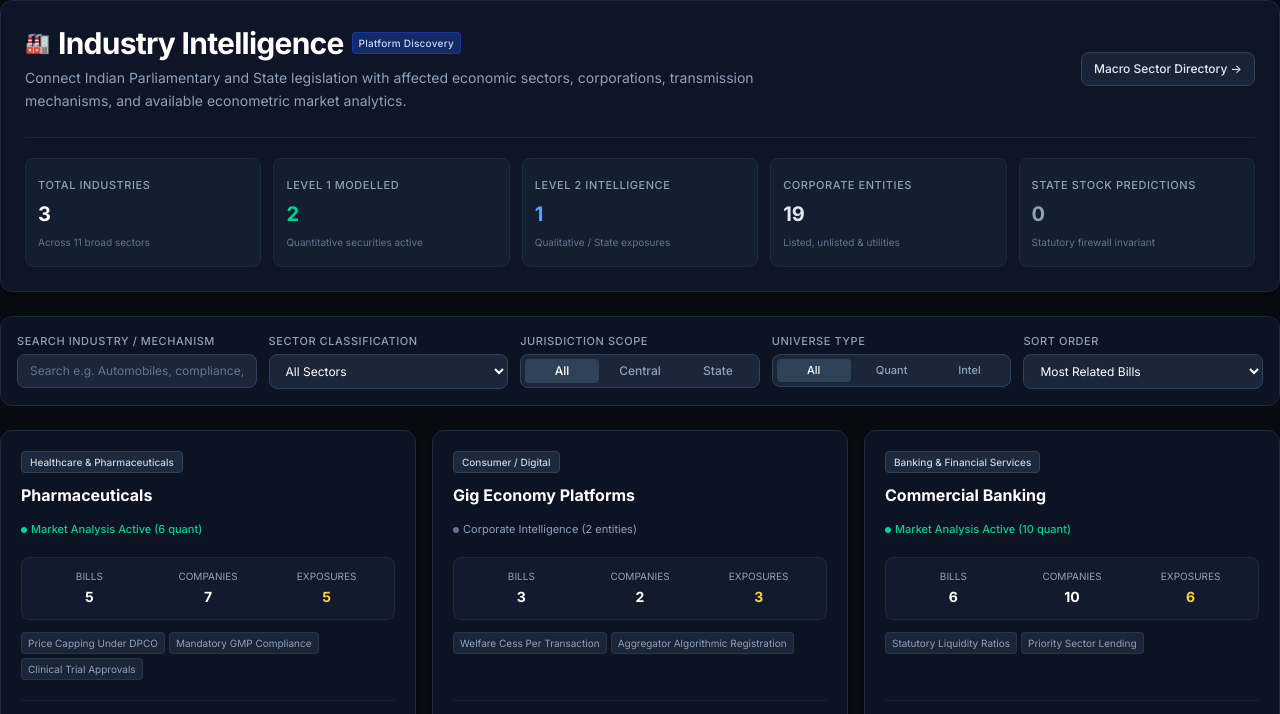
Test case: IndustriesContent (Industry Discovery Page) › filters industries dynamically by search keyword
The image size is (1280, 714).
Check: the link "Pharmaceuticals" is shown, box [21,485,152,505]
Type "gig" into the field labelled "Search Industry / Mechanism" at (137,371), box [17,354,257,388]
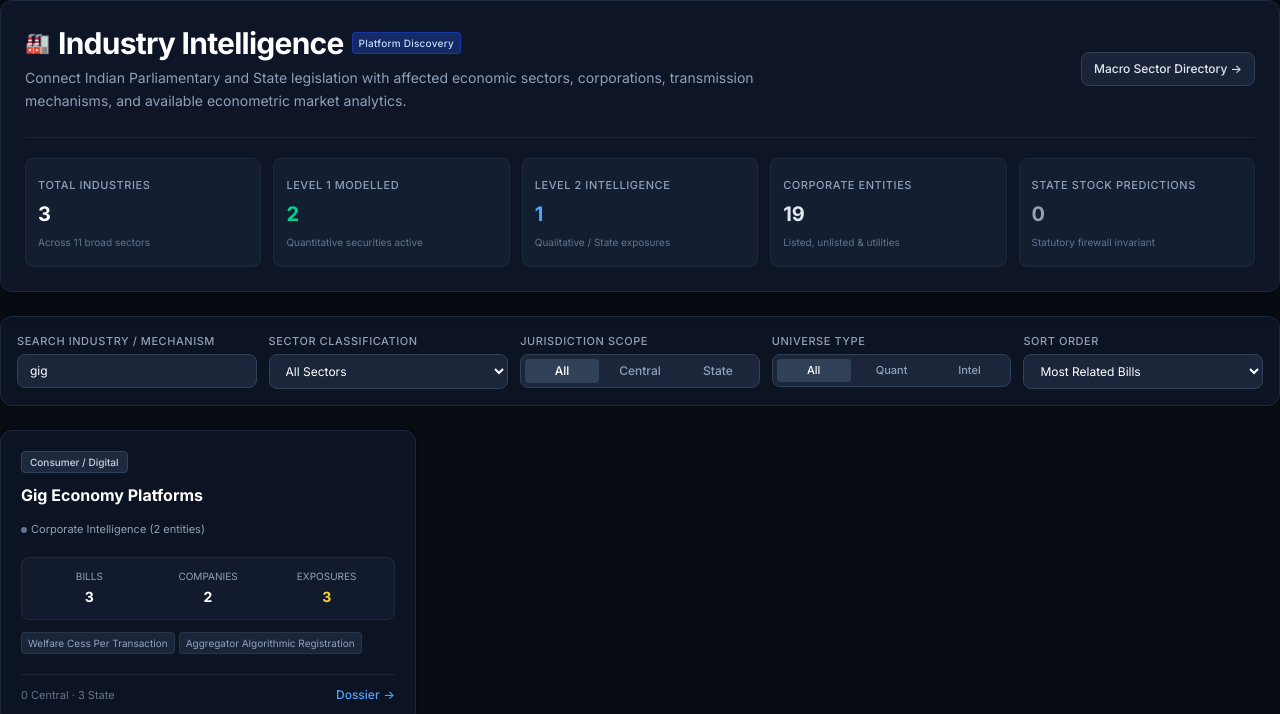
Check: the link "Gig Economy Platforms" is shown, box [21,485,203,505]
Check: the text "Pharmaceuticals" is gone
Check: the link "Commercial Banking" is gone
